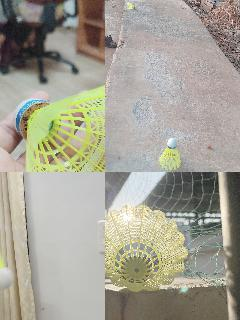shuttlecock: (12, 80, 104, 171), (105, 205, 187, 292), (0, 231, 14, 289), (159, 138, 181, 170), (126, 2, 136, 8)
